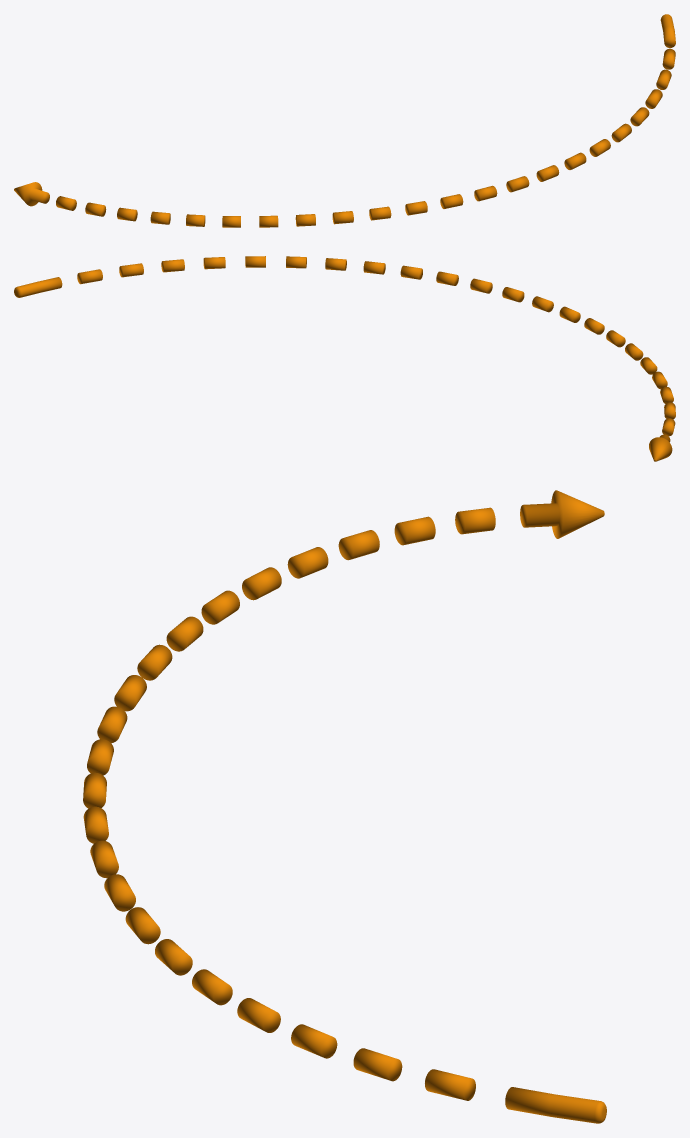
File: flight.gltf
3 views of the same model, one above another, from view 1: azimuth 30°, elevation 25°; view 2: azimuth 150°, elevation 25°; view 3: azimuth 270°, elevation 25° (orthographic). The views are drawn at different scales.
Parts seen in each view (by area): view 1: BezierCurve; view 2: BezierCurve; view 3: BezierCurve.
Part boxes in pixels (x1,y1,x2,y2): BezierCurve: [14, 14, 675, 227]; BezierCurve: [14, 256, 675, 461]; BezierCurve: [83, 490, 606, 1123].
Bounding box in the file's own units: 1.39 × 0.0524 × 0.489.
